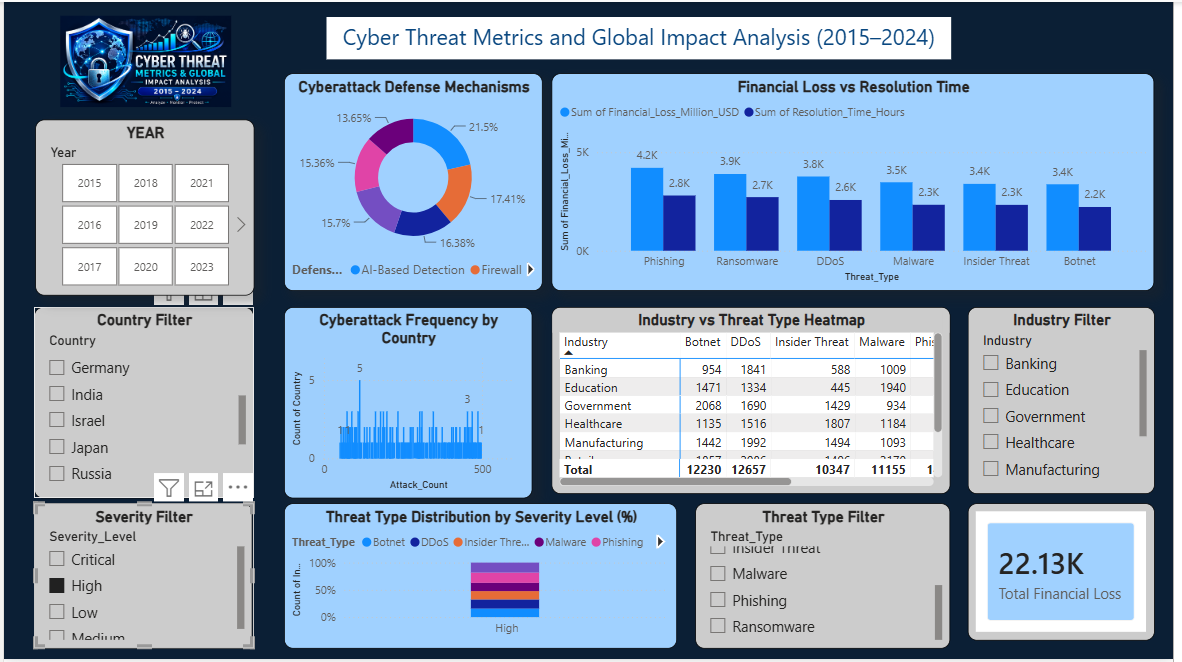

Layout of this report page (visuals, bound fields, positions):
{"tool":"powerbi","page":{"name":"Page 1","canvas":[1280,720],"ordinal":0},"visuals":[{"type":"cardVisual","fields":{"Data":["Cyber_Threat_Data.Total Financial Loss"]},"box":[1055.1,548.6,204.8,150.2],"z":0},{"type":"donutChart","title":"Cyberattack Defense Mechanisms","fields":{"Category":["Cyber_Threat_Data.Defense_Mechanism"],"Y":["CountNonNull(Cyber_Threat_Data.Incident_ID)"]},"box":[306.6,78.1,283.4,238.6],"z":1000},{"type":"clusteredColumnChart","title":"Financial Loss vs Resolution Time","fields":{"Category":["Cyber_Threat_Data.Threat_Type"],"Y":["Sum(Cyber_Threat_Data.Financial_Loss_Million_USD)","Sum(Cyber_Threat_Data.Resolution_Time_Hours)"]},"box":[599.5,78.2,660.4,238.3],"z":2000},{"type":"clusteredColumnChart","title":"Cyberattack Frequency by Country","fields":{"Y":["CountNonNull(Cyber_Threat_Data.Country)"],"Category":["Cyber_Threat_Data.Attack_Count"]},"box":[306.6,333.9,271.8,209.8],"z":3000},{"type":"pivotTable","title":"Industry vs Threat Type Heatmap","fields":{"Rows":["Cyber_Threat_Data.Industry"],"Columns":["Cyber_Threat_Data.Threat_Type"],"Values":["Sum(Cyber_Threat_Data.Attack_Count)"]},"box":[599.5,333.9,436.9,204.8],"z":4000},{"type":"hundredPercentStackedColumnChart","title":"Threat Type Distribution by Severity Level (%)","fields":{"Category":["Cyber_Threat_Data.Severity_Level"],"Y":["CountNonNull(Cyber_Threat_Data.Incident_ID)"],"Series":["Cyber_Threat_Data.Threat_Type"]},"box":[306.6,548.6,430.7,158.9],"z":5000},{"type":"slicer","title":"Country Filter","fields":{"Values":["Cyber_Threat_Data.Country"]},"box":[33.5,333.9,240.8,209.8],"z":6000},{"type":"slicer","title":"Industry Filter","fields":{"Values":["Cyber_Threat_Data.Industry"]},"box":[1055.1,333.9,204.8,204.8],"z":7000},{"type":"slicer","title":"Threat Type Filter","fields":{"Values":["Cyber_Threat_Data.Threat_Type"]},"box":[757.2,548.6,279.3,158.9],"z":8000},{"type":"slicer","title":"Severity Filter","fields":{"Values":["Cyber_Threat_Data.Severity_Level"]},"box":[33.5,548.6,239.6,158.9],"z":9000},{"type":"textbox","box":[352.8,15.9,684,46.3],"z":10000},{"type":"slicer","title":"YEAR","fields":{"Values":["Cyber_Threat_Data.Year"]},"box":[33.8,129.1,240.1,193],"z":11000},{"type":"image","box":[61.5,15.7,187,100.1],"z":12000}]}

Visuals, with their boxes in screenshot pixels (x1, y1, x2, y2), scaled from the page's 1280x720 canvas onto the 1182x662 screenshot:
cardVisual - Cyber_Threat_Data.Total Financial Loss: Rect(974, 504, 1163, 643)
"Cyberattack Defense Mechanisms" donutChart: Rect(283, 72, 545, 291)
"Financial Loss vs Resolution Time" clusteredColumnChart: Rect(554, 72, 1163, 291)
"Cyberattack Frequency by Country" clusteredColumnChart: Rect(283, 307, 534, 500)
"Industry vs Threat Type Heatmap" pivotTable: Rect(554, 307, 957, 495)
"Threat Type Distribution by Severity Level (%)" hundredPercentStackedColumnChart: Rect(283, 504, 681, 651)
"Country Filter" slicer: Rect(31, 307, 253, 500)
"Industry Filter" slicer: Rect(974, 307, 1163, 495)
"Threat Type Filter" slicer: Rect(699, 504, 957, 651)
"Severity Filter" slicer: Rect(31, 504, 252, 651)
textbox: Rect(326, 15, 957, 57)
"YEAR" slicer: Rect(31, 119, 253, 296)
image: Rect(57, 14, 229, 106)
